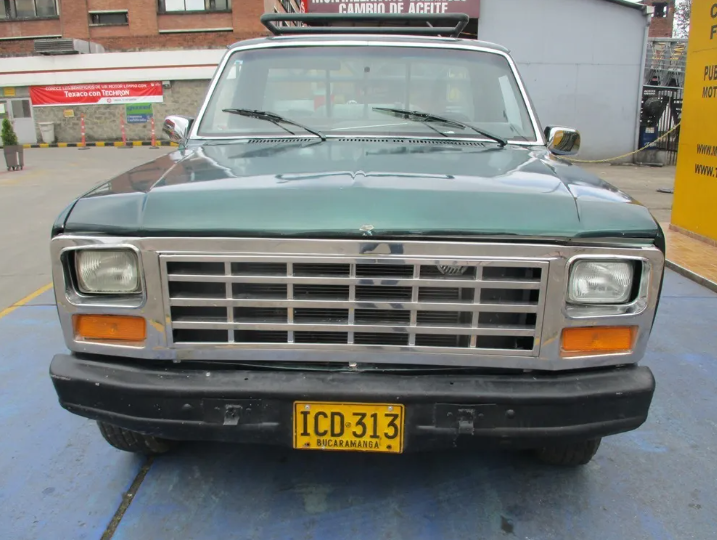placa: (291, 400, 404, 454)
